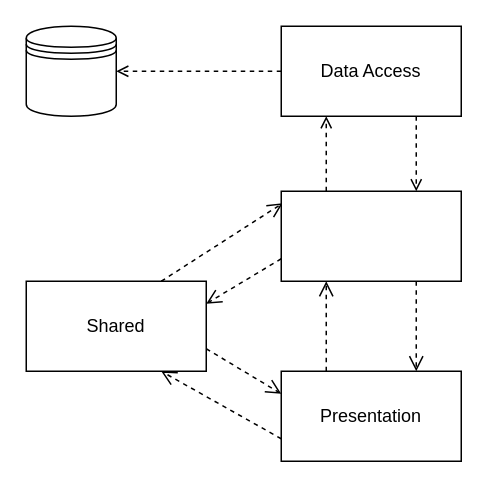
The diagram is 488 pixels wide and 488 high, and some of its shapes have lost their labels. Each missing label, with the centre of its shape:
"Bussiness" goes at pixel 370 235.
"Database" goes at pixel 70 70.
